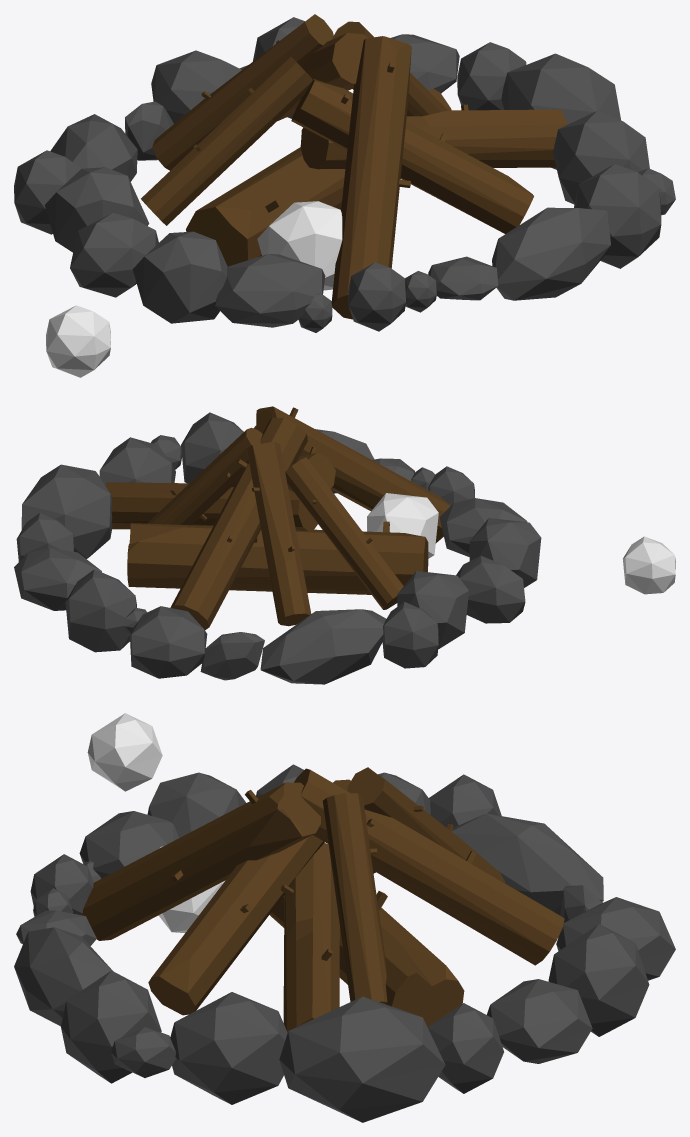
File: campfi.glb
The picture shows the model from 3 angles, top to bottom: view 1: azimuth 30°, elevation 25°; view 2: azimuth 150°, elevation 25°; view 3: azimuth 270°, elevation 25°; orthographic projection. The views are drawn at different scales.
Parts seen in each view (by area): view 1: Cylinder.002, Cylinder.001, Icosphere, Cylinder.003, Cylinder.004, Cylinder, Icosphere.017, Cylinder.006, Icosphere.016, Icosphere.008, Icosphere.010, Icosphere.007 (+18 smaller); view 2: Cylinder.003, Cylinder.005, Icosphere.013, Cylinder.006, Cylinder, Icosphere.010, Cylinder.002, Icosphere.001, Icosphere.009, Cylinder.004, Cylinder.007, Icosphere.005 (+16 smaller); view 3: Icosphere.010, Cylinder.002, Cylinder.005, Cylinder.001, Icosphere.007, Cylinder.004, Cylinder.007, Icosphere.013, Icosphere.009, Icosphere.008, Icosphere.005, Cylinder.003 (+15 smaller).
Boxes of the visible parts, bbox=[...] form: Cylinder.002: bbox=[331, 36, 411, 319]; Cylinder.001: bbox=[291, 78, 533, 233]; Icosphere: bbox=[492, 207, 610, 300]; Cylinder.003: bbox=[186, 88, 451, 266]; Cylinder.004: bbox=[300, 104, 567, 169]; Cylinder: bbox=[141, 57, 312, 225]; Icosphere.017: bbox=[132, 231, 227, 323]; Cylinder.006: bbox=[152, 14, 333, 170]; Icosphere.016: bbox=[215, 254, 325, 327]; Icosphere.008: bbox=[574, 164, 661, 268]; Icosphere.010: bbox=[501, 53, 621, 169]; Icosphere.007: bbox=[553, 111, 649, 204]; Cylinder.003: bbox=[127, 521, 428, 594]; Cylinder.005: bbox=[170, 417, 307, 629]; Icosphere.013: bbox=[260, 609, 386, 684]; Cylinder.006: bbox=[247, 442, 311, 626]; Cylinder: bbox=[285, 457, 403, 609]; Icosphere.010: bbox=[21, 464, 112, 558]; Cylinder.002: bbox=[253, 406, 450, 543]; Icosphere.001: bbox=[129, 606, 207, 678]; Icosphere.009: bbox=[65, 569, 136, 652]; Cylinder.004: bbox=[105, 482, 317, 530]; Cylinder.007: bbox=[147, 427, 262, 525]; Icosphere.005: bbox=[14, 548, 101, 610]; Icosphere.010: bbox=[279, 996, 445, 1122]; Cylinder.002: bbox=[82, 782, 320, 940]; Cylinder.005: bbox=[294, 768, 564, 965]; Cylinder.001: bbox=[148, 835, 324, 1015]; Icosphere.007: bbox=[170, 992, 287, 1104]; Cylinder.004: bbox=[281, 843, 339, 1032]; Cylinder.007: bbox=[322, 793, 387, 1003]; Icosphere.013: bbox=[452, 813, 603, 914]; Icosphere.009: bbox=[548, 924, 649, 1036]; Icosphere.008: bbox=[61, 970, 161, 1083]; Icosphere.005: bbox=[487, 979, 592, 1063]; Cylinder.003: bbox=[269, 891, 464, 1027].
Size of the model in its own units: 22.05 by 6.48 by 17.59.
